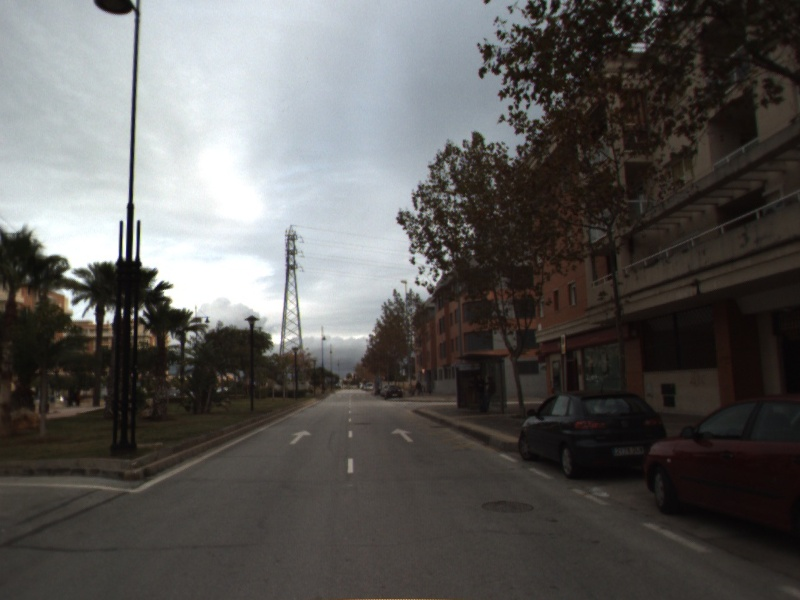STRAIGHT: (389, 426, 416, 444), (288, 428, 314, 446)
